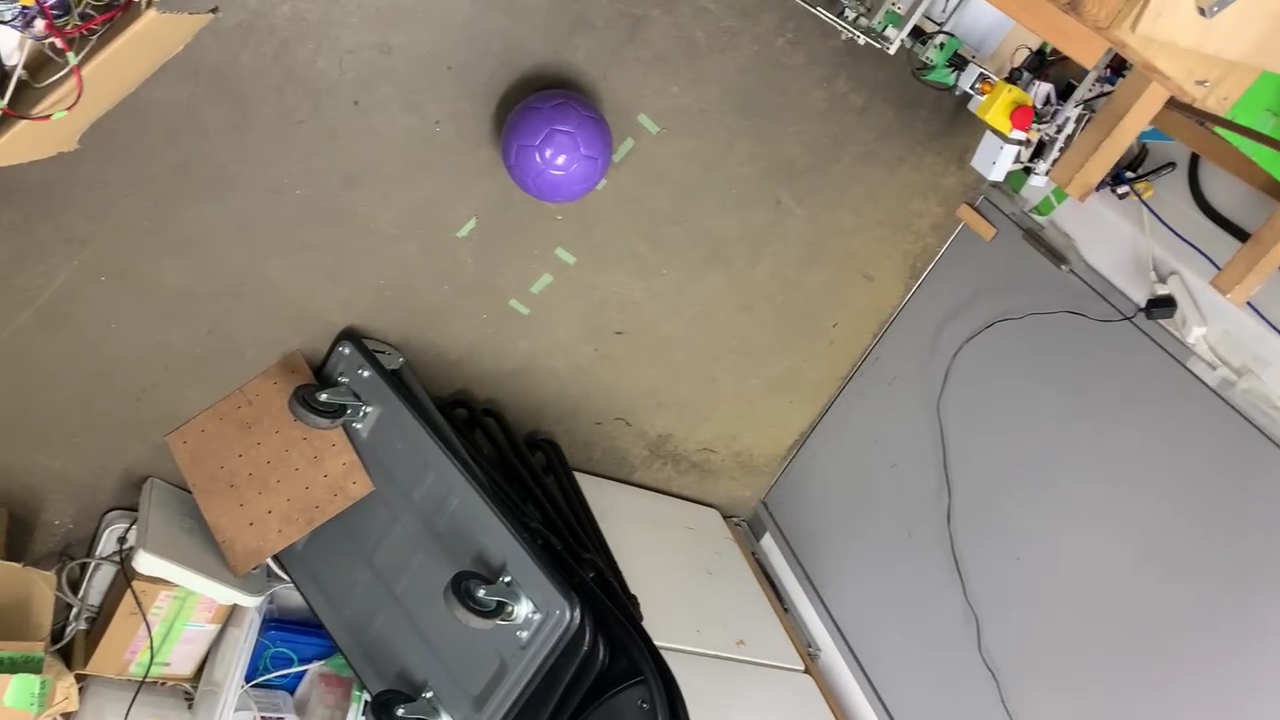purple: (501, 92, 611, 204)
